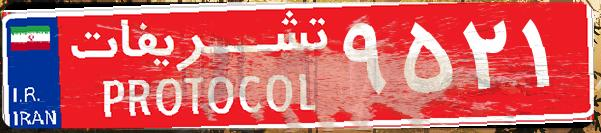1: (520, 20, 580, 115)
2: (460, 20, 520, 115)
5: (400, 20, 460, 115)
9: (340, 20, 400, 115)
تشریفات: (60, 8, 340, 125)
